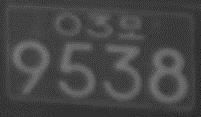0: (53, 10, 82, 37)
3: (102, 42, 143, 102), (86, 10, 113, 38)
5: (57, 40, 96, 99)
8: (148, 45, 189, 106)
9: (12, 37, 51, 94)
모: (116, 13, 144, 40)
